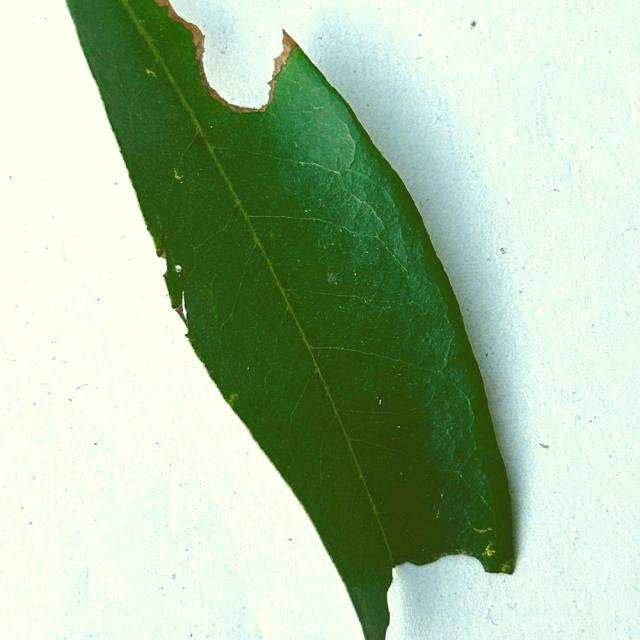Deficiency Leaf: (168, 0, 284, 109), (386, 555, 509, 639)
Lychee: (68, 0, 515, 639)
